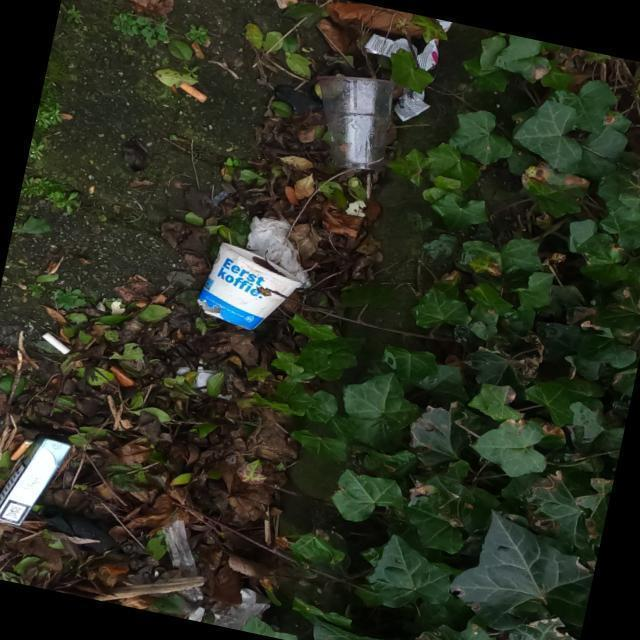Cup: (315, 74, 397, 172)
Paper: (195, 240, 304, 332), (0, 436, 74, 528), (246, 214, 312, 289)
